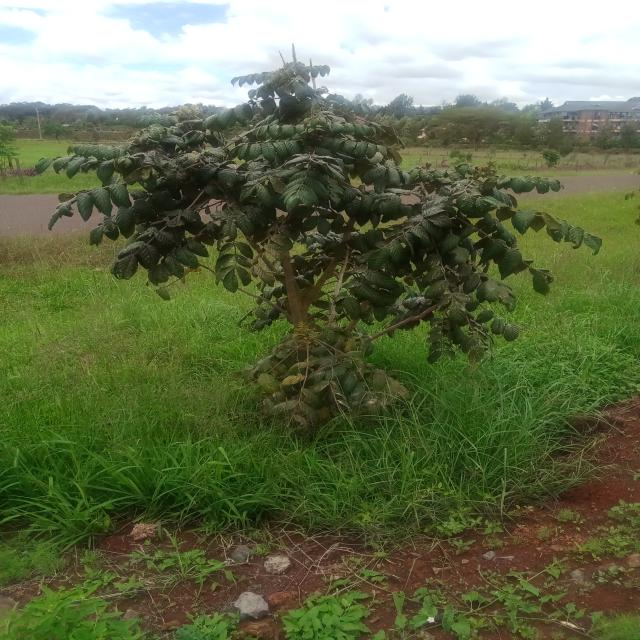Polyscias Kikuyensis: (52, 57, 636, 419)
